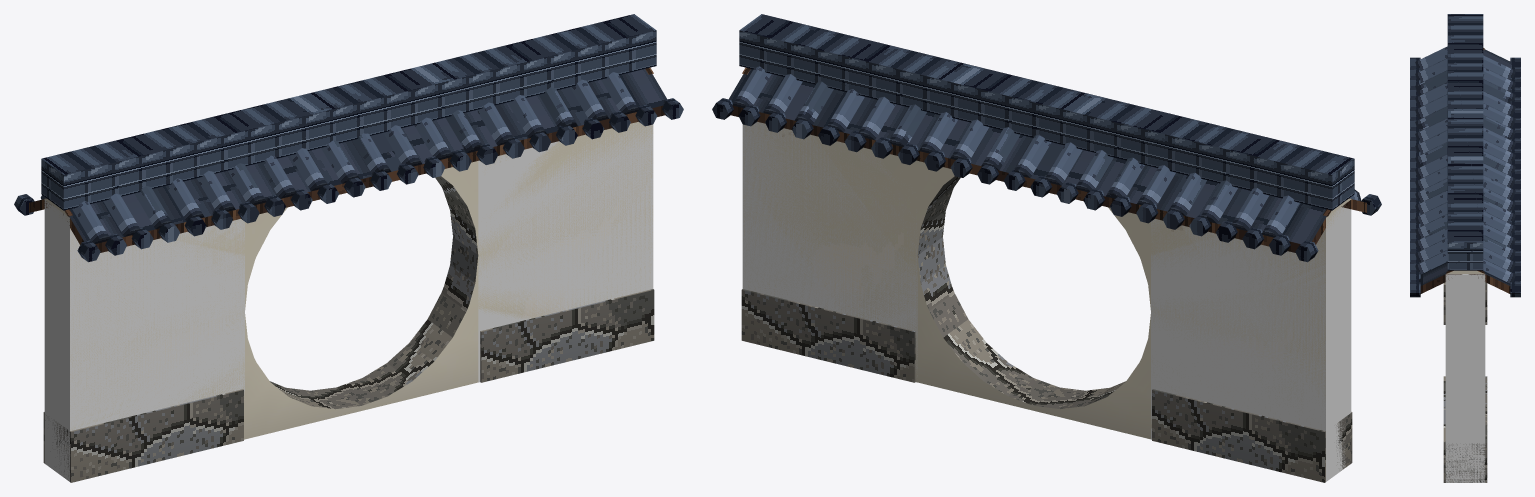
Rendered from JP_Rich_MoonGateWall_6m_A.glb.
The picture shows the model from 3 angles, left to right: view 1: azimuth 30°, elevation 25°; view 2: azimuth 150°, elevation 25°; view 3: azimuth 270°, elevation 25°; orthographic projection. The views are drawn at different scales.
Visible parts, largest first — view 1: JP_Rich_MoonGateWall_6m_A, COL_JP_Rich_MoonGateWall_6m_A_L, COL_JP_Rich_MoonGateWall_6m_A_R; view 2: JP_Rich_MoonGateWall_6m_A, COL_JP_Rich_MoonGateWall_6m_A_L, COL_JP_Rich_MoonGateWall_6m_A_R; view 3: JP_Rich_MoonGateWall_6m_A, COL_JP_Rich_MoonGateWall_6m_A_R.
Part boxes in pixels (bbox=[...]): JP_Rich_MoonGateWall_6m_A: bbox=[14, 14, 683, 482]; COL_JP_Rich_MoonGateWall_6m_A_L: bbox=[44, 200, 244, 481]; COL_JP_Rich_MoonGateWall_6m_A_R: bbox=[478, 122, 653, 382]; JP_Rich_MoonGateWall_6m_A: bbox=[712, 14, 1381, 482]; COL_JP_Rich_MoonGateWall_6m_A_L: bbox=[1151, 206, 1351, 481]; COL_JP_Rich_MoonGateWall_6m_A_R: bbox=[742, 122, 917, 376]; JP_Rich_MoonGateWall_6m_A: bbox=[1410, 14, 1520, 482]; COL_JP_Rich_MoonGateWall_6m_A_R: bbox=[1445, 274, 1485, 482].
Size of the model in its own units: 6.17 by 3.02 by 1.25.
7 materials, 7 textured.
